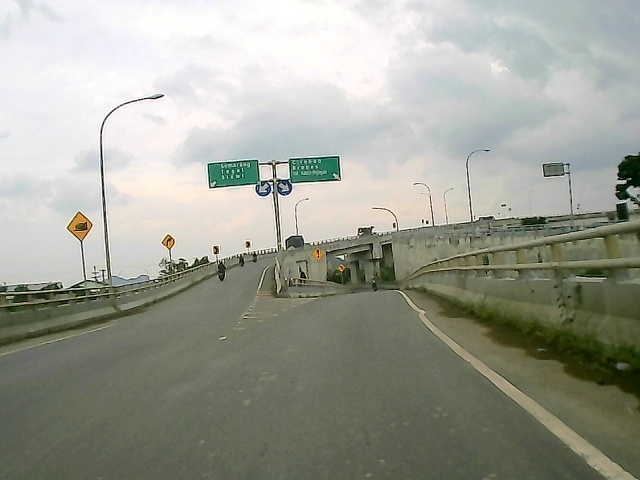Hati-hati: (311, 245, 326, 261)
Jalanan menanjak: (65, 210, 94, 244)
Tikungan ke kanan: (161, 234, 176, 251)
